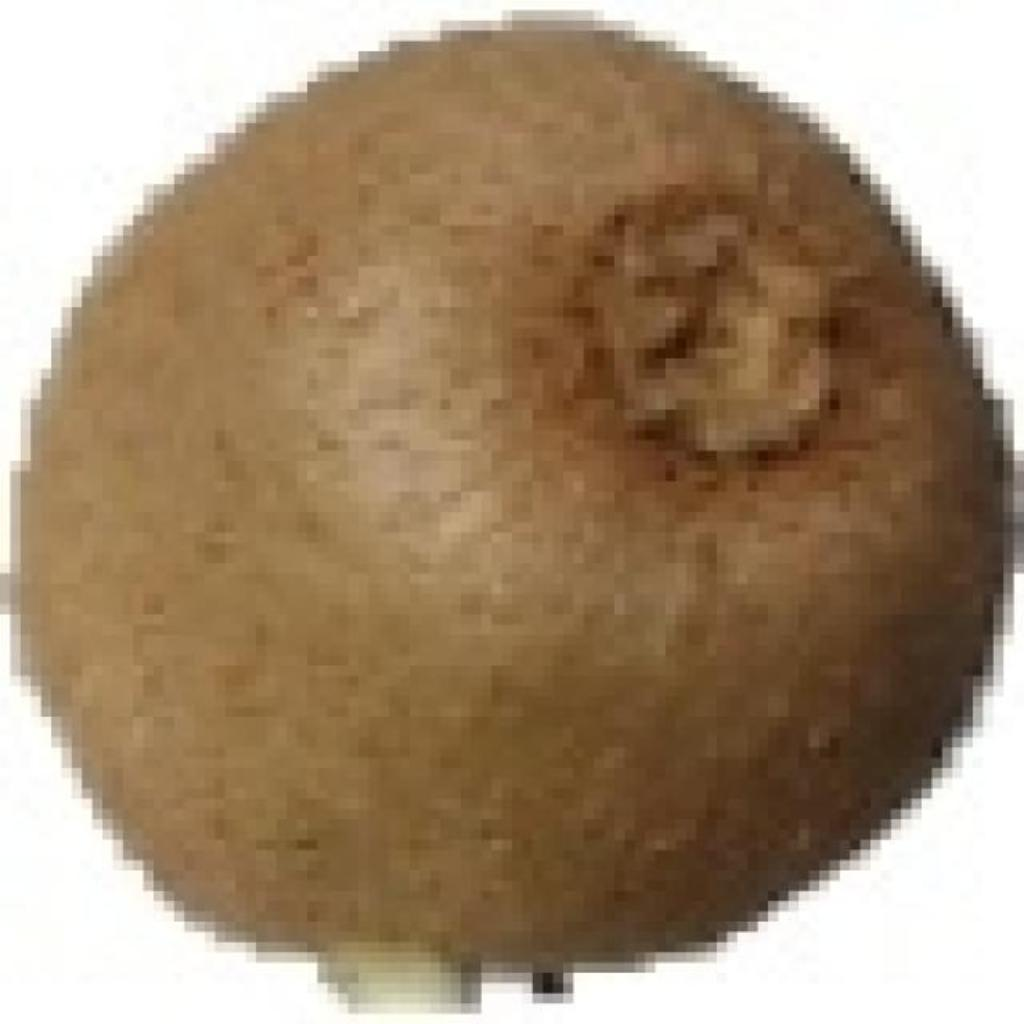kiwi: (10, 10, 983, 983)
